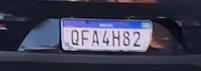Placa_mercosul_carro: (60, 19, 153, 52)
